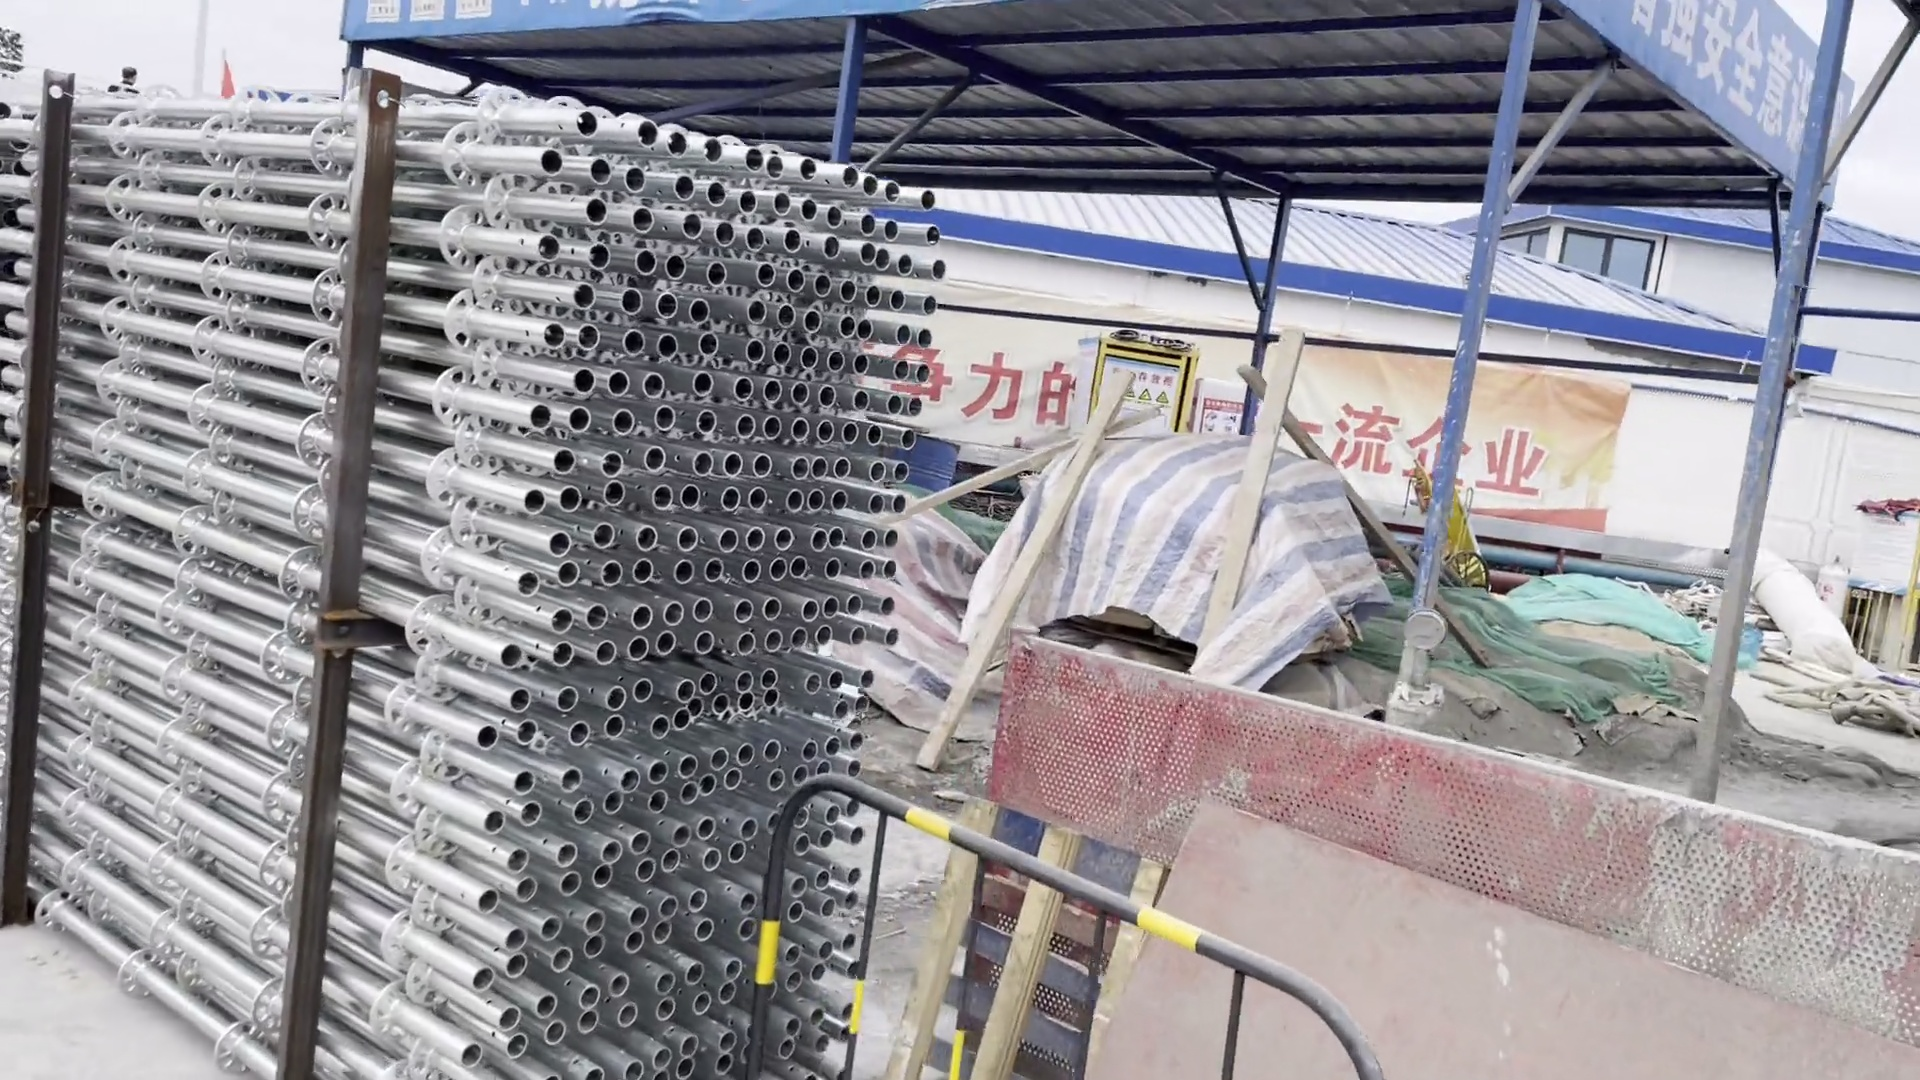scaffold: (1, 90, 957, 1080)
